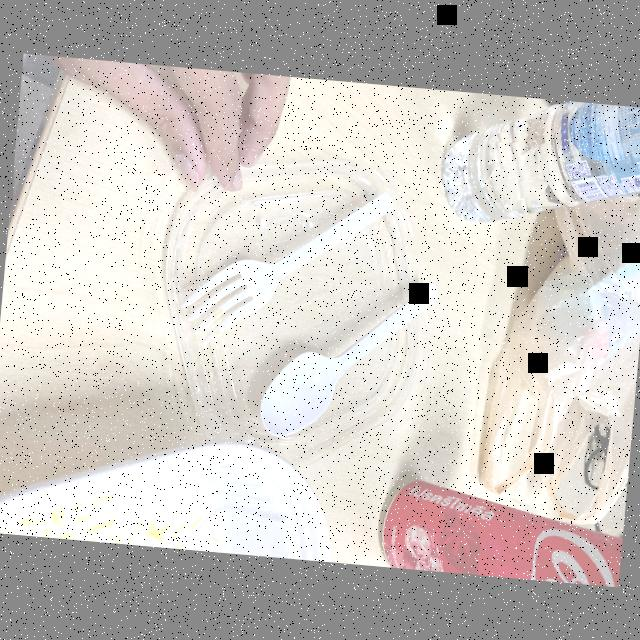plastic_spoon: (167, 156, 405, 370), (250, 266, 443, 461)
